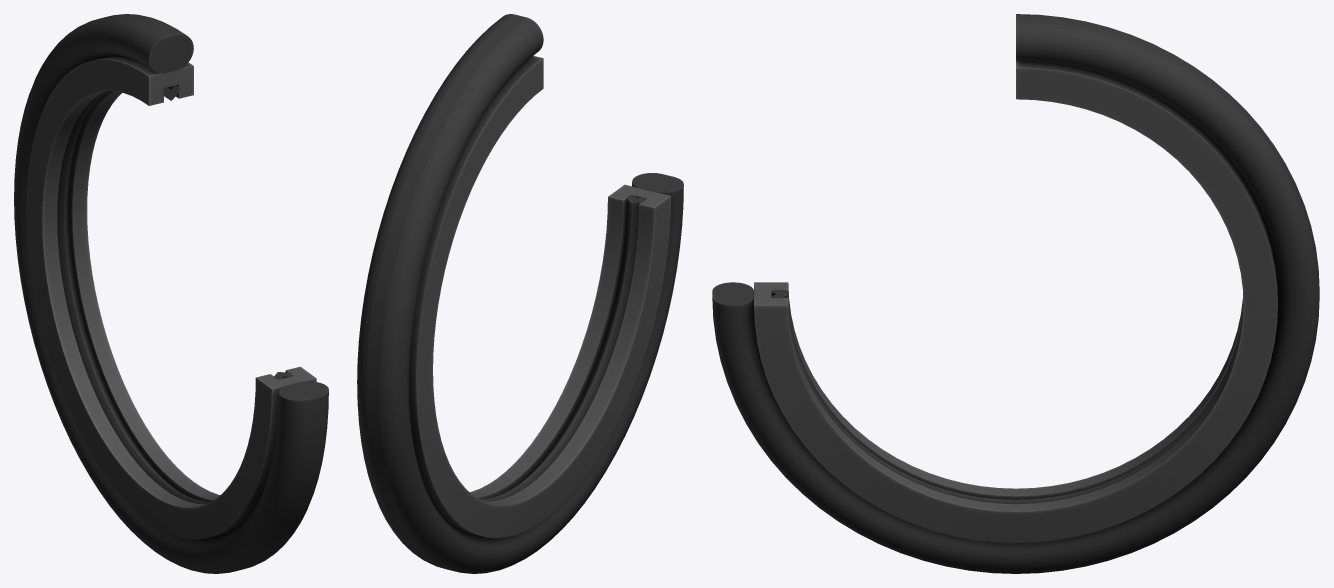
3 renders of one model, left to right at view 1: azimuth 30°, elevation 25°; view 2: azimuth 150°, elevation 25°; view 3: azimuth 270°, elevation 25°, orthographic. The views are drawn at different scales.
Parts seen in each view (by area): view 1: PR00060_turcon_aq_seal_rod; view 2: PR00060_turcon_aq_seal_rod; view 3: PR00060_turcon_aq_seal_rod.
Boxes of the visible parts, <box> form: PR00060_turcon_aq_seal_rod: <box>14,14,328,573</box>; PR00060_turcon_aq_seal_rod: <box>357,14,683,573</box>; PR00060_turcon_aq_seal_rod: <box>712,14,1319,573</box>.
Bounding box in the file's own units: 0.0181 × 0.1993 × 0.1993.
1 material, 1 textured.
